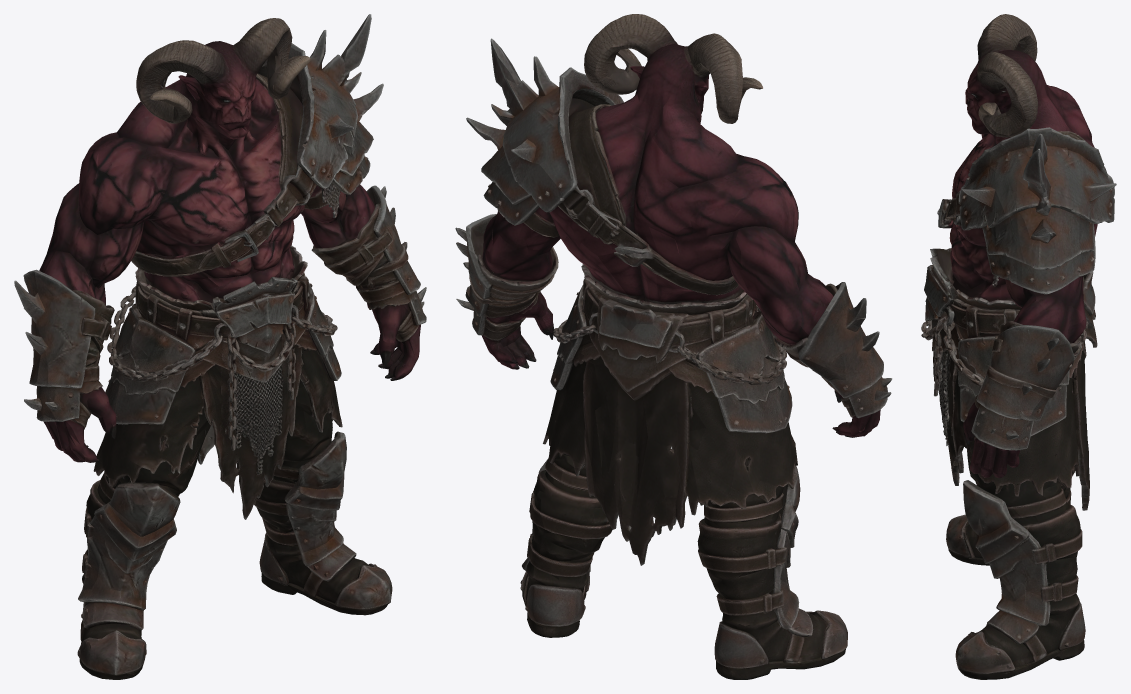
Rendered from reaver_meshy_raw.glb.
3 renders of one model, left to right at view 1: azimuth 30°, elevation 25°; view 2: azimuth 150°, elevation 25°; view 3: azimuth 270°, elevation 25°, orthographic. The views are drawn at different scales.
Parts seen in each view (by area): view 1: Mesh_0; view 2: Mesh_0; view 3: Mesh_0.
Part boxes in pixels (box(x1,y1,x2,y2)): Mesh_0: box(14, 14, 426, 679); Mesh_0: box(455, 14, 892, 679); Mesh_0: box(921, 14, 1116, 679).
Size of the model in its own units: 1.38 by 1.9 by 0.5848.
Materials: 1 (1 with a texture image).
